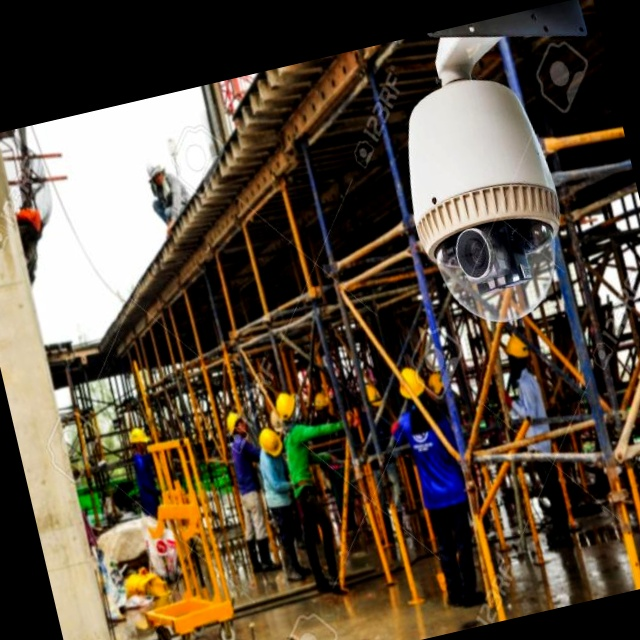Con_Casco: (256, 424, 286, 461)
